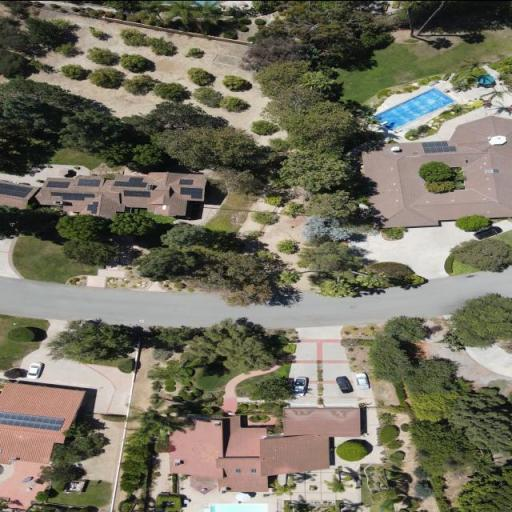solar-panel: (0, 411, 65, 430), (0, 182, 34, 197), (422, 140, 457, 152), (51, 191, 94, 200), (113, 176, 148, 187), (180, 186, 203, 198), (77, 178, 101, 186), (124, 190, 151, 197), (46, 180, 70, 187), (88, 201, 99, 213), (179, 178, 194, 184)
